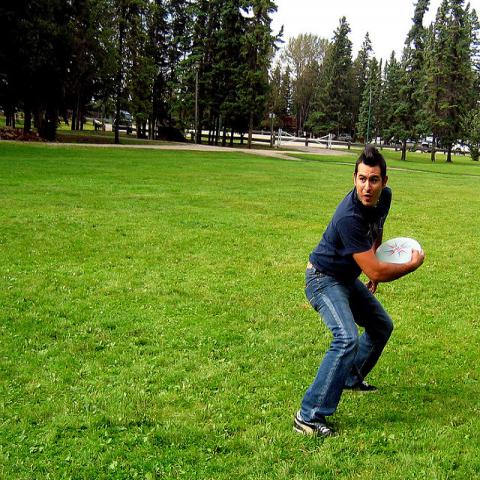car: (417, 139, 432, 153), (368, 137, 384, 146), (338, 133, 354, 142)
